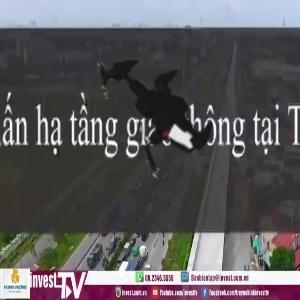drone: (48, 14, 250, 216)
